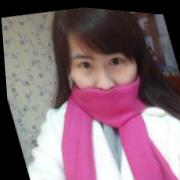WRONG: (63, 29, 150, 124)
